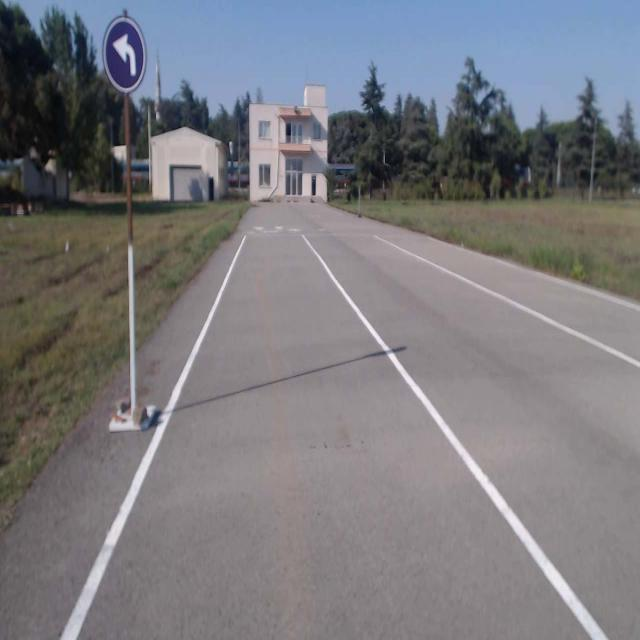sol: (104, 17, 146, 91)
